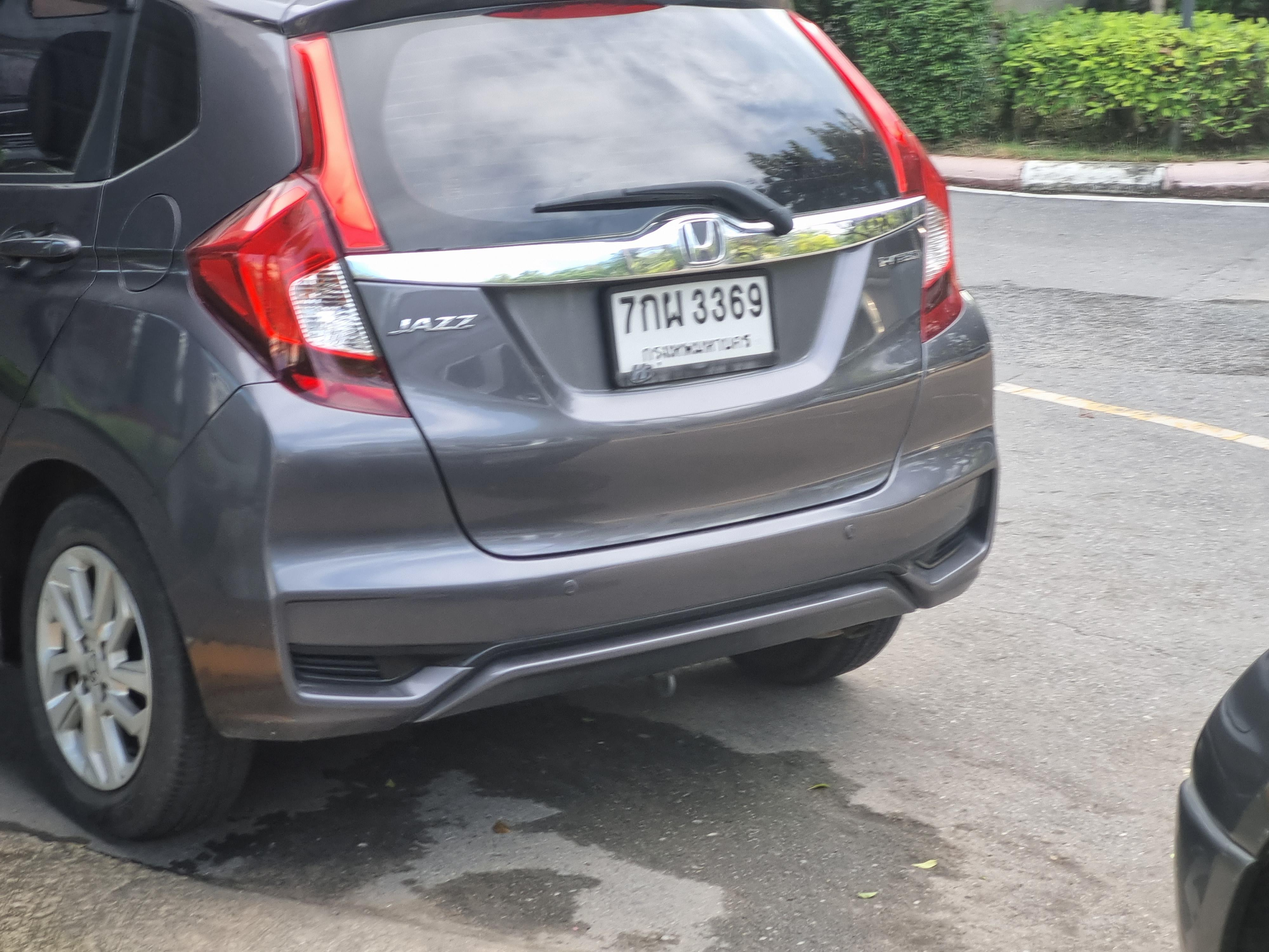license-plate: (600, 267, 783, 397)
